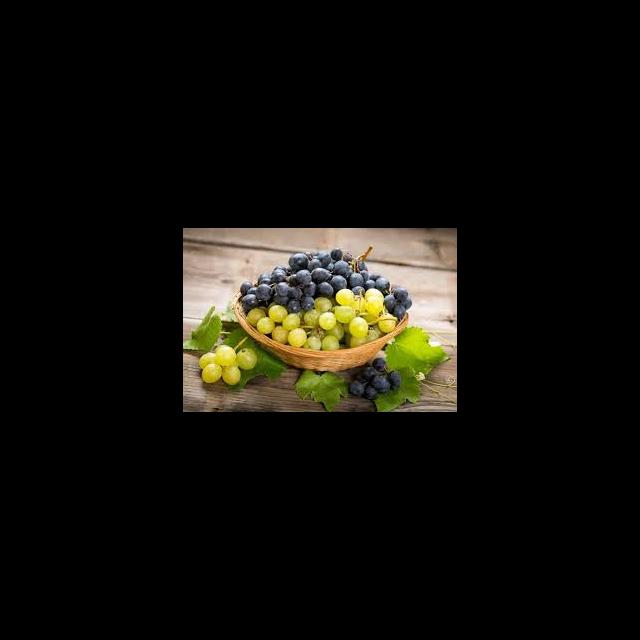grape: (239, 246, 412, 350), (349, 357, 400, 400)
